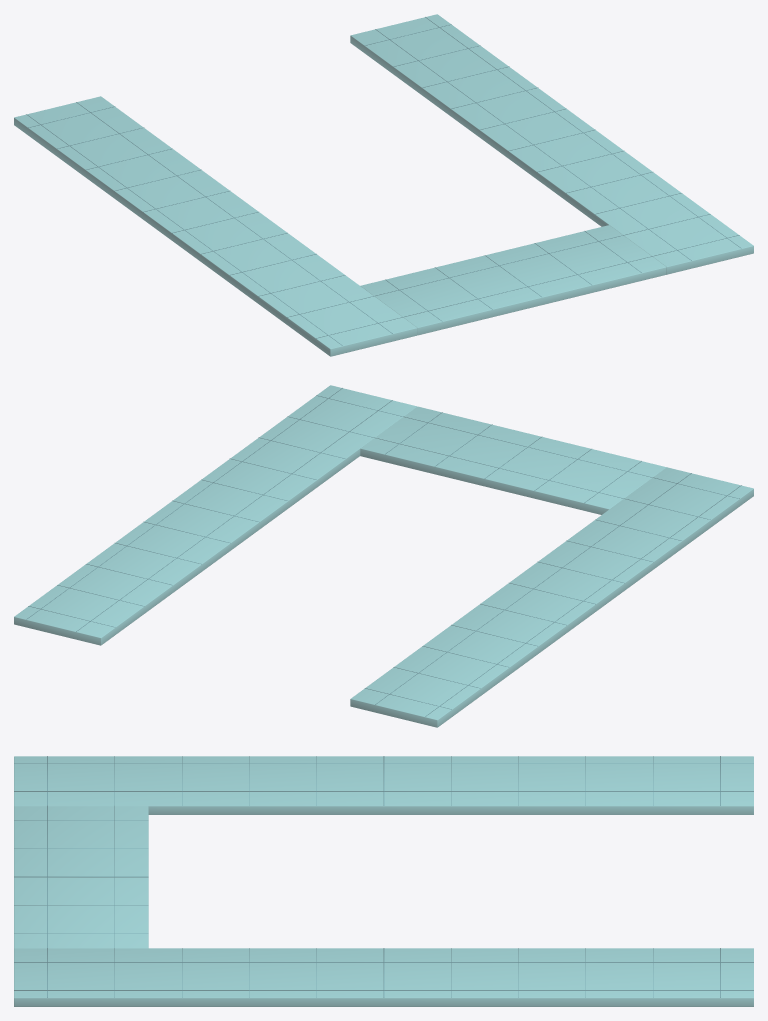
File: atlantis_district_gallery.glb
3 renders of one model, top to bottom at view 1: azimuth 30°, elevation 25°; view 2: azimuth 150°, elevation 25°; view 3: azimuth 270°, elevation 25°, orthographic. The views are drawn at different scales.
Visible parts, largest first — view 1: atlantis_district_gallery_surface; view 2: atlantis_district_gallery_surface; view 3: atlantis_district_gallery_surface.
Boxes of the visible parts, <box> form: atlantis_district_gallery_surface: <box>14,14,753,356</box>; atlantis_district_gallery_surface: <box>14,385,753,727</box>; atlantis_district_gallery_surface: <box>14,756,753,1006</box>.
Bounding box in the file's own units: 34 × 0.6175 × 44.
